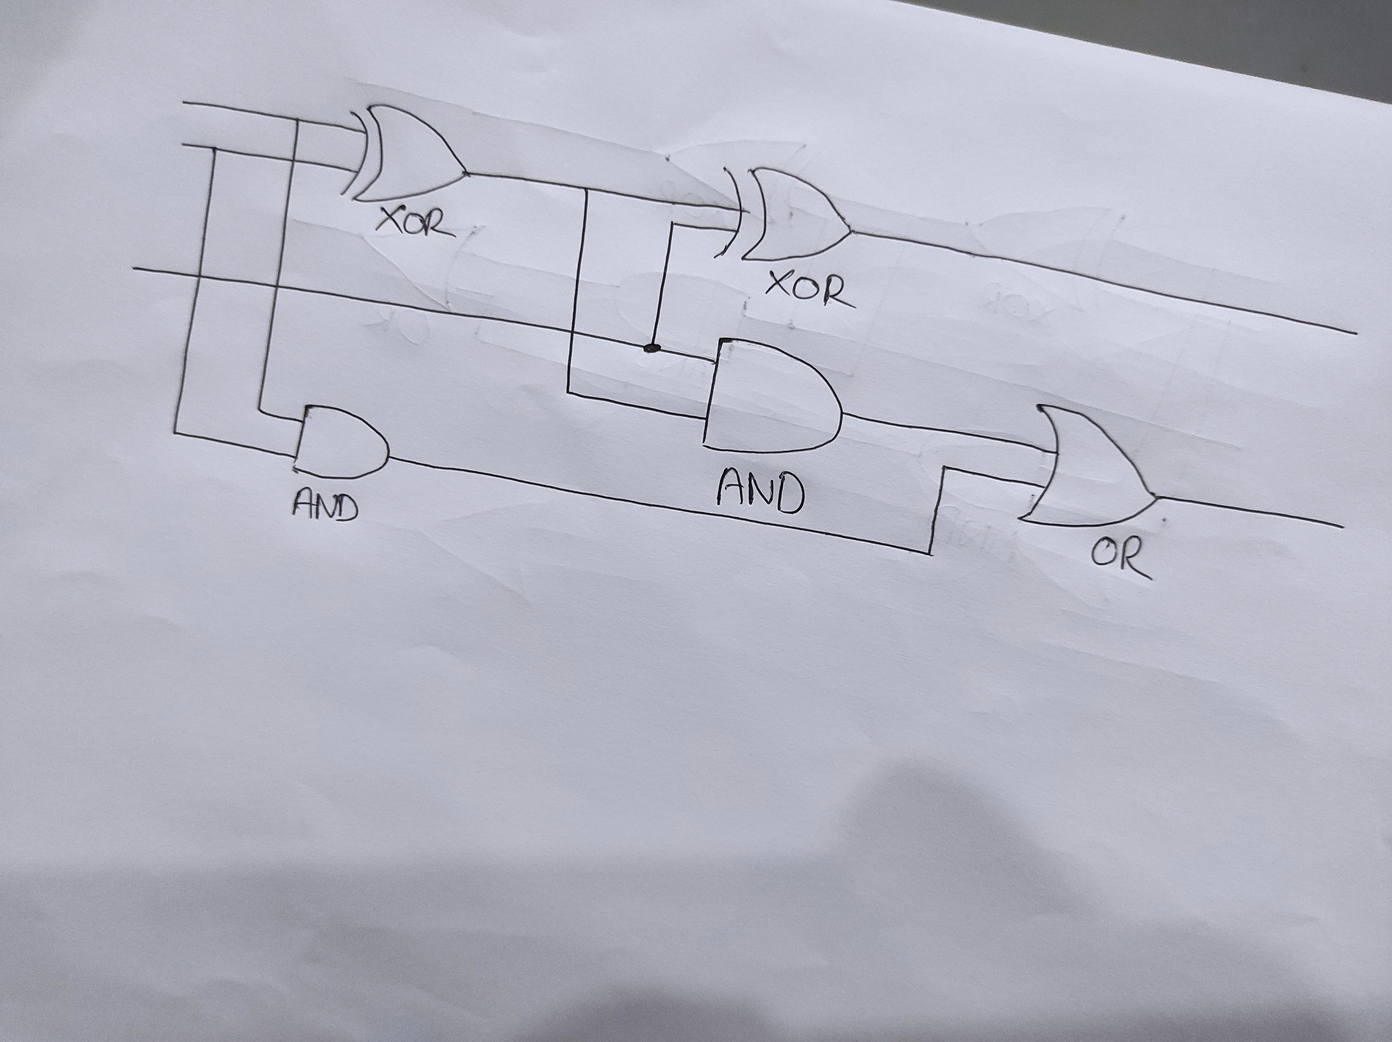and: (698, 332, 847, 456), (289, 402, 394, 482)
crossover: (285, 153, 303, 169), (269, 279, 286, 294), (190, 269, 208, 283), (565, 324, 580, 338)
junction: (933, 458, 956, 476), (641, 338, 662, 358), (919, 545, 940, 563), (250, 401, 268, 419), (577, 180, 596, 197), (289, 112, 306, 127), (167, 425, 182, 440), (561, 383, 575, 398), (665, 217, 680, 230), (208, 142, 221, 155)
or: (1012, 401, 1164, 531)
terminal: (1329, 516, 1353, 539), (1345, 322, 1365, 344), (124, 260, 141, 275), (177, 94, 192, 109), (176, 139, 190, 149)
text: (714, 465, 808, 517), (765, 265, 857, 312), (1089, 531, 1157, 584), (374, 202, 462, 242), (285, 483, 361, 525)
xor: (711, 163, 857, 263), (337, 101, 474, 206)
